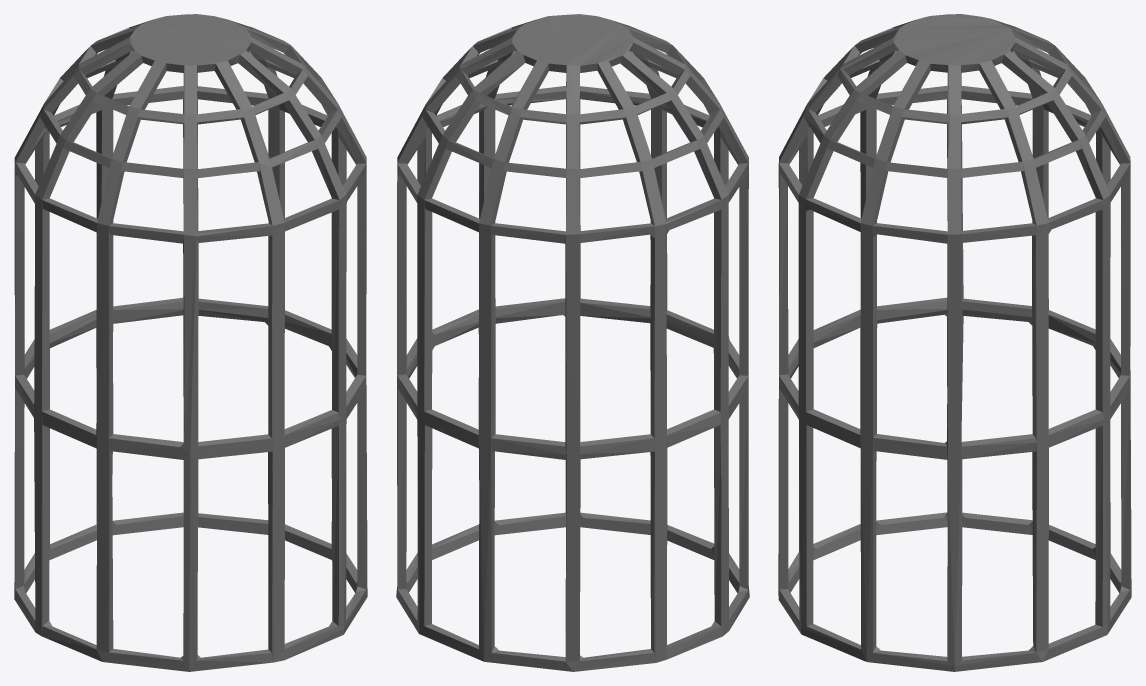
The model's file is LPCP_Cage17.fbx.
The picture shows the model from 3 angles, left to right: view 1: azimuth 30°, elevation 25°; view 2: azimuth 150°, elevation 25°; view 3: azimuth 270°, elevation 25°; orthographic projection.
Parts seen in each view (by area): view 1: LPCP_Cage17; view 2: LPCP_Cage17; view 3: LPCP_Cage17.
Part boxes in pixels (<box>): LPCP_Cage17: <box>14,14,367,671</box>; LPCP_Cage17: <box>396,14,749,671</box>; LPCP_Cage17: <box>778,14,1131,671</box>.
Bounding box in the file's own units: 1.99 × 3.46 × 1.98.
